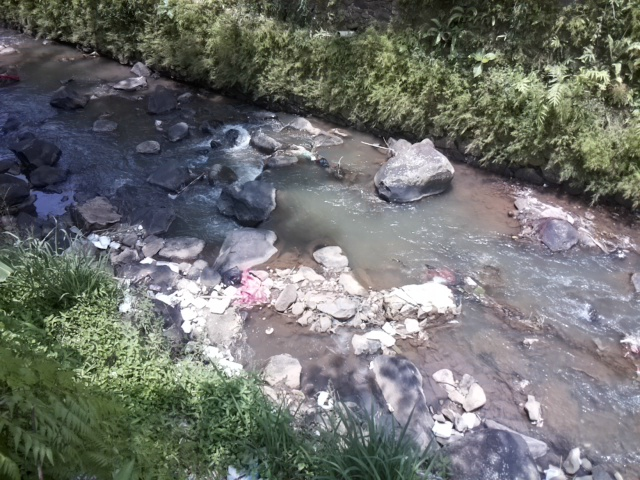Sampah_Plastik: (239, 267, 273, 306), (219, 267, 247, 287)
Sampah_Styrofoam: (172, 276, 231, 320)
